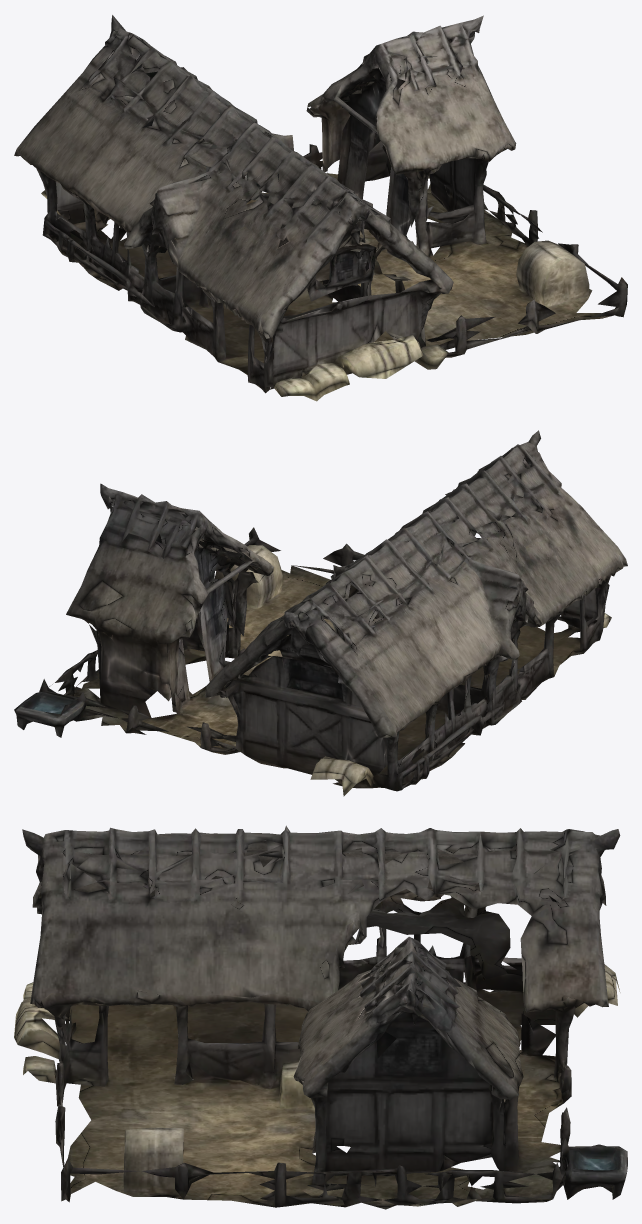
Rendered from stables.glb.
3 views of the same model, one above another, from view 1: azimuth 30°, elevation 25°; view 2: azimuth 150°, elevation 25°; view 3: azimuth 270°, elevation 25° (orthographic). The views are drawn at different scales.
Parts seen in each view (by area): view 1: geometry_0; view 2: geometry_0; view 3: geometry_0.
Boxes of the visible parts, <box> form: geometry_0: <box>14,15,627,401</box>; geometry_0: <box>14,430,627,796</box>; geometry_0: <box>14,825,627,1209</box>.
Bounding box in the file's own units: 0.8549 × 0.4017 × 0.997.
1 material, 1 textured.
